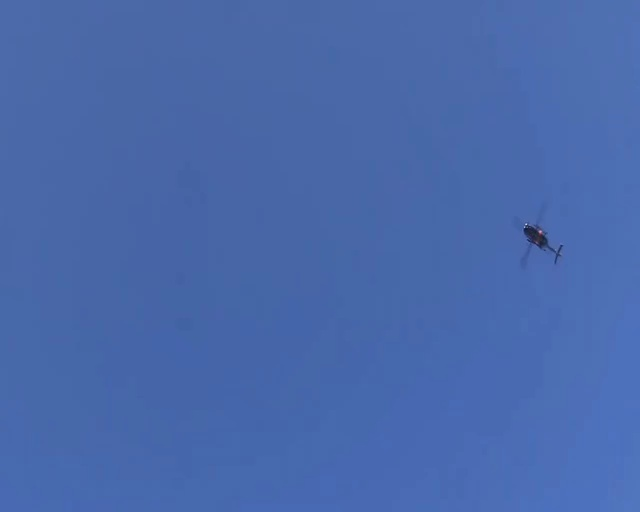HELICOPTER: (513, 198, 564, 266)
